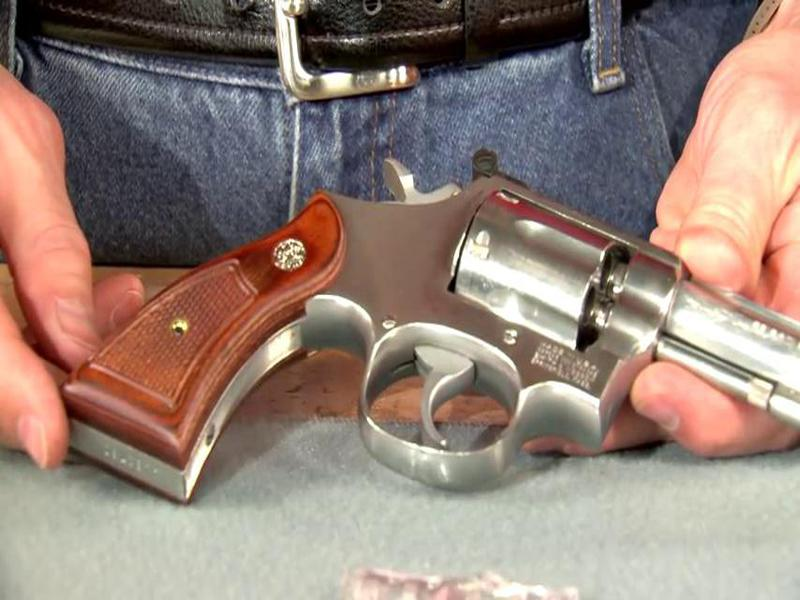Revolver: (66, 144, 792, 540)
